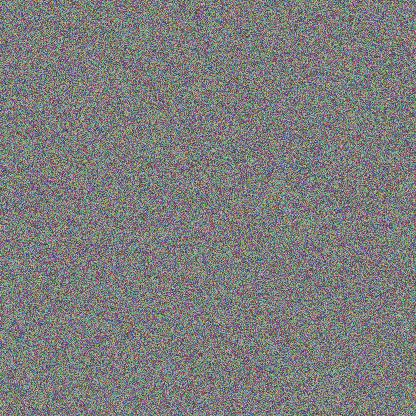empty: (288, 143, 355, 192), (126, 226, 187, 271), (228, 218, 280, 266)
